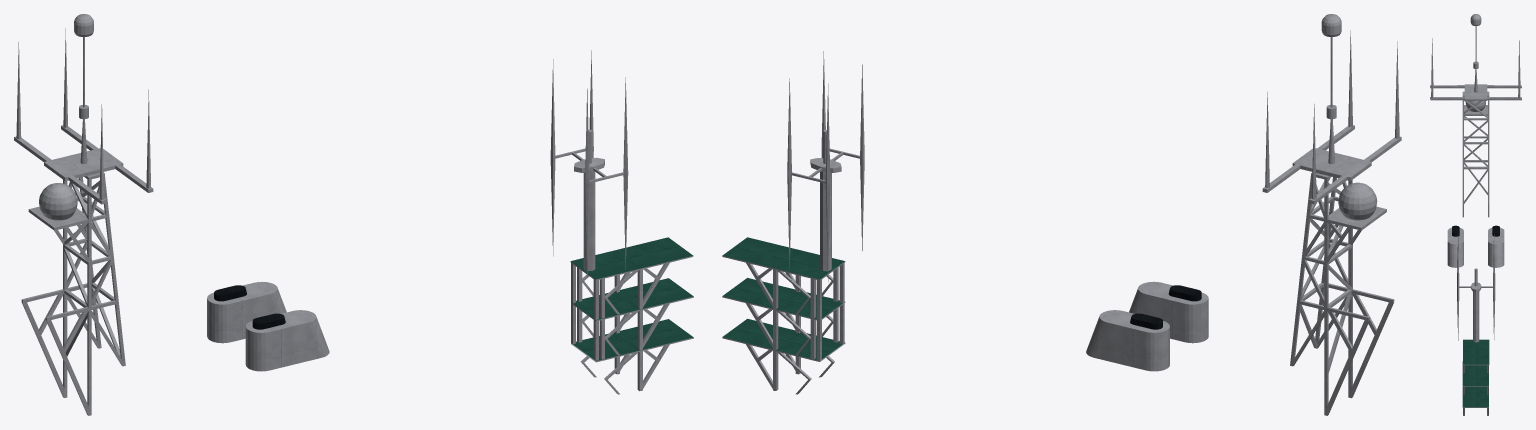
Rendered from carrier_bits_sfse.obj.
3 renders of one model, left to right at view 1: azimuth 30°, elevation 25°; view 2: azimuth 150°, elevation 25°; view 3: azimuth 270°, elevation 25°, orthographic. The views are drawn at different scales.
Parts seen in each view (by area): view 1: CARRIER_Bits_SFSe; view 2: CARRIER_Bits_SFSe; view 3: CARRIER_Bits_SFSe.
Part boxes in pixels (left/top/right/bottom): CARRIER_Bits_SFSe: left=14, top=14, right=693, bottom=415; CARRIER_Bits_SFSe: left=722, top=14, right=1401, bottom=415; CARRIER_Bits_SFSe: left=1430, top=14, right=1521, bottom=415.
Size of the model in its own units: 54.18 by 40.02 by 12.7.
Materials: 3 (3 with a texture image).
